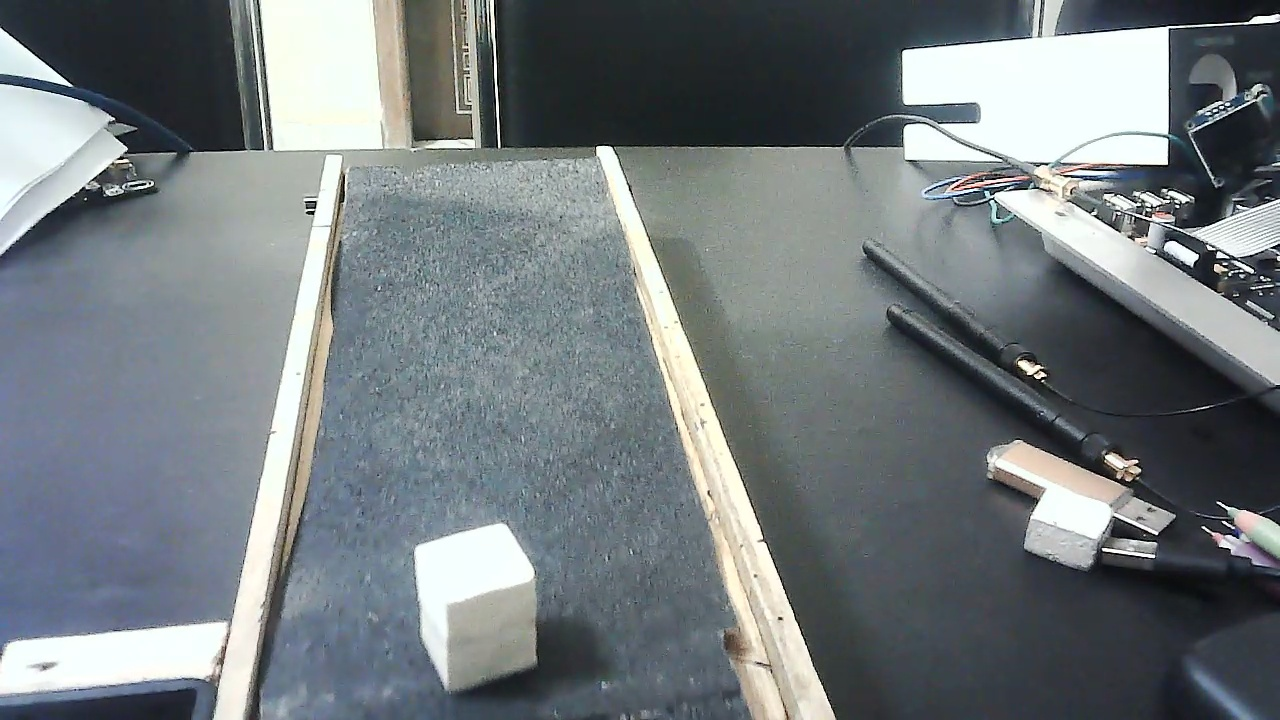Small: (389, 521, 561, 693)
